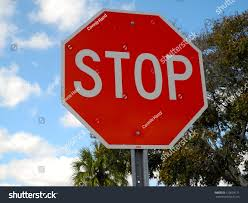Stop: (70, 7, 217, 148)
